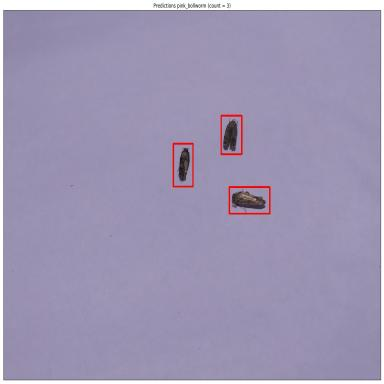pbw: (328, 264, 361, 330)
